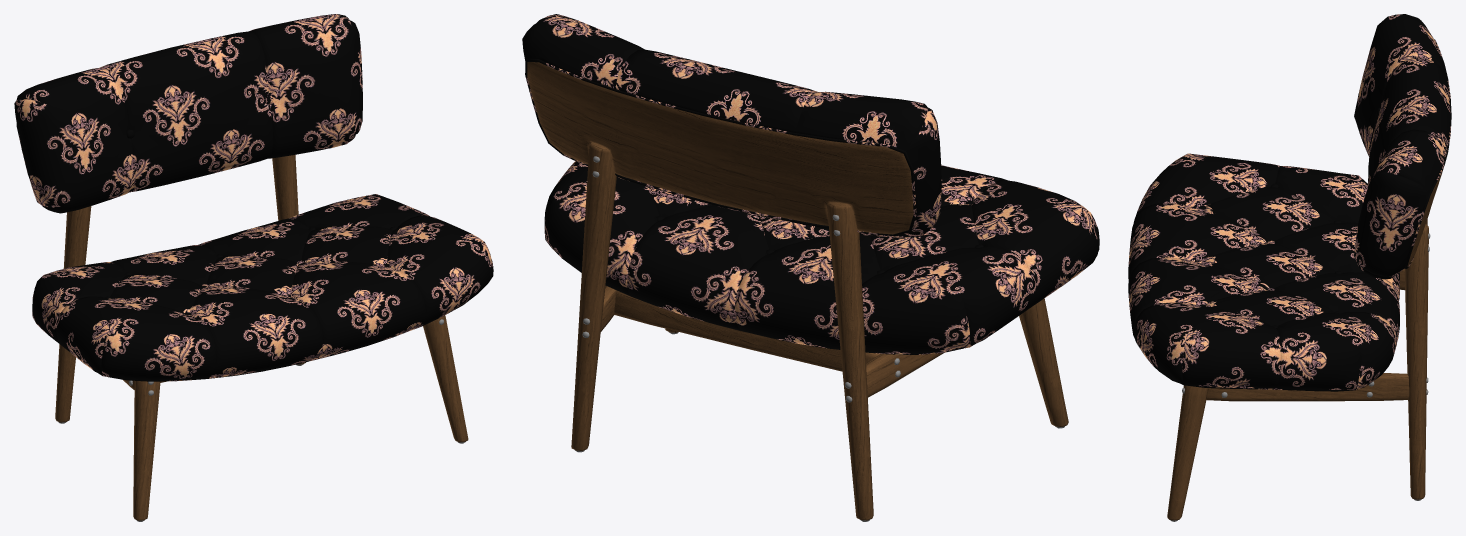
The model's file is chair-damask.glb.
3 renders of one model, left to right at view 1: azimuth 30°, elevation 25°; view 2: azimuth 150°, elevation 25°; view 3: azimuth 270°, elevation 25°, orthographic. The views are drawn at different scales.
Visible parts, largest first — view 1: oval-tufted-chair_back-fabric, oval-tufted-chair_legs-frame; view 2: oval-tufted-chair_back-fabric, oval-tufted-chair_legs-frame; view 3: oval-tufted-chair_back-fabric, oval-tufted-chair_legs-frame.
Part boxes in pixels (x1=…): oval-tufted-chair_back-fabric: x1=14, y1=14, x2=493, y2=381; oval-tufted-chair_legs-frame: x1=55, y1=154, x2=468, y2=520; oval-tufted-chair_back-fabric: x1=522, y1=14, x2=1099, y2=354; oval-tufted-chair_legs-frame: x1=527, y1=62, x2=1068, y2=520; oval-tufted-chair_back-fabric: x1=1128, y1=14, x2=1451, y2=391; oval-tufted-chair_legs-frame: x1=1167, y1=169, x2=1443, y2=520.
Bounding box in the file's own units: 0.8286 × 0.6874 × 0.5718.
Materials: 4 (3 with a texture image).
